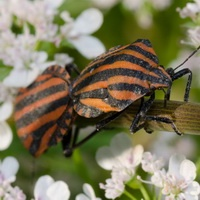insect: (14, 39, 199, 156)
